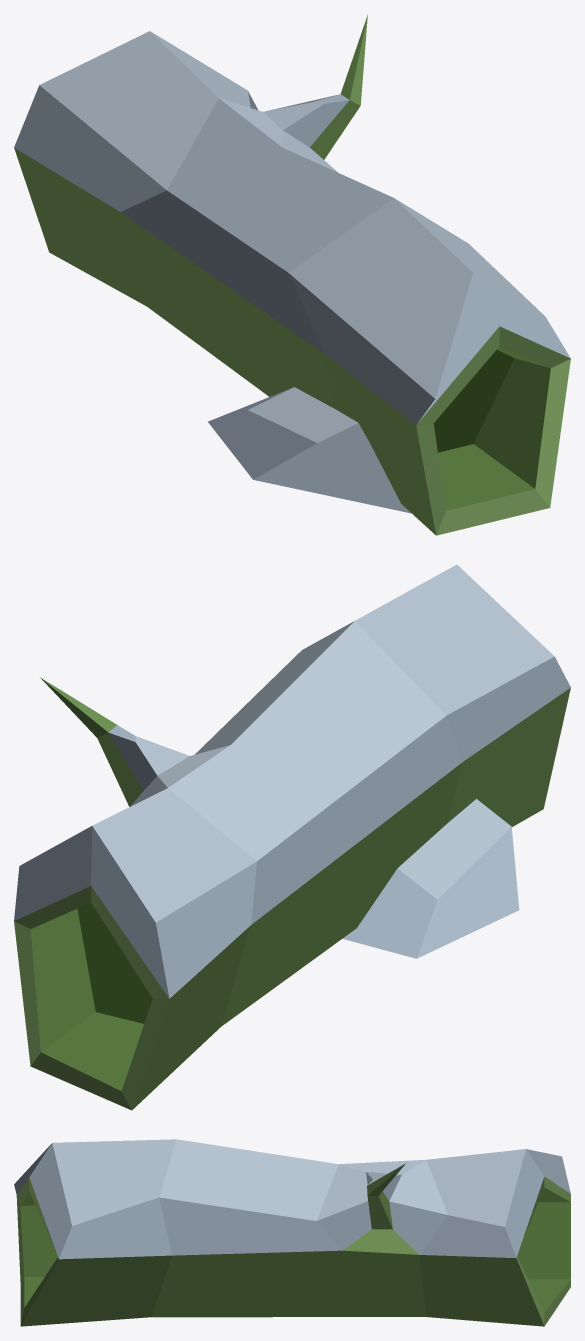
File: FallenLog_Alt4.fbx
3 views of the same model, one above another, from view 1: azimuth 30°, elevation 25°; view 2: azimuth 150°, elevation 25°; view 3: azimuth 270°, elevation 25° (orthographic). The views are drawn at different scales.
Visible parts, largest first — view 1: FallenLog_Alt2; view 2: FallenLog_Alt2; view 3: FallenLog_Alt2.
Part boxes in pixels (box(x1,y1,x2,y2)): FallenLog_Alt2: box(14, 14, 570, 535); FallenLog_Alt2: box(14, 564, 570, 1110); FallenLog_Alt2: box(14, 1139, 570, 1326).
Bounding box in the file's own units: 0.3263 × 0.3055 × 0.7821.
